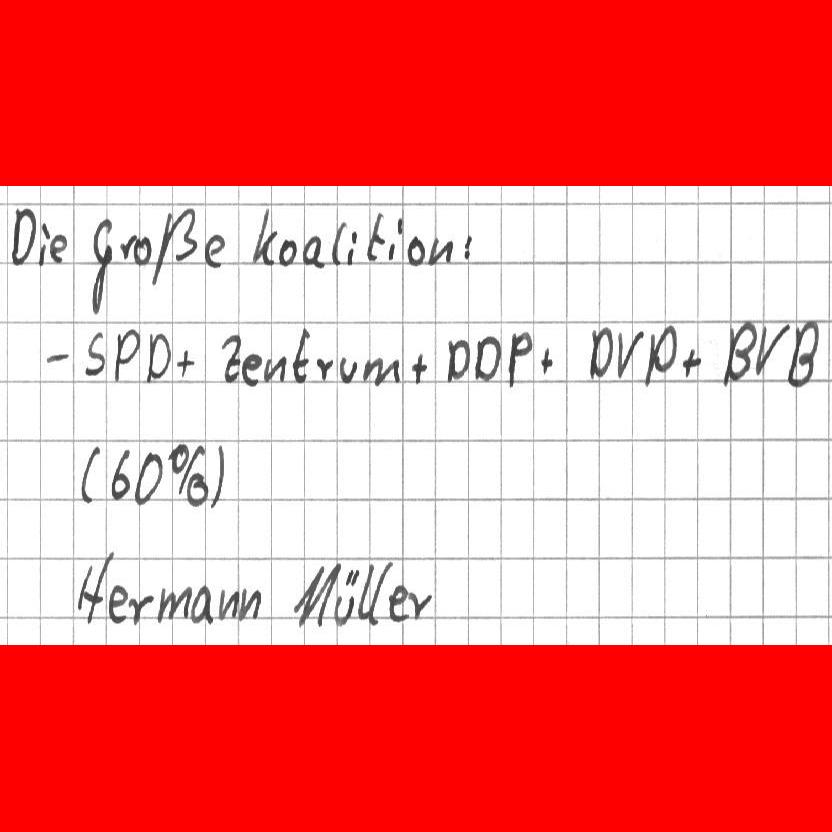Char: (152, 208, 197, 285), (290, 563, 333, 631), (166, 441, 207, 508), (89, 216, 115, 315), (76, 552, 110, 626), (784, 317, 819, 388), (754, 321, 790, 379), (723, 319, 754, 386), (360, 559, 389, 629), (644, 323, 677, 384), (132, 448, 164, 507), (7, 204, 36, 269), (248, 208, 279, 266), (112, 323, 139, 386), (505, 329, 532, 389), (220, 584, 261, 623), (616, 326, 644, 381), (333, 565, 360, 622), (144, 324, 169, 383), (78, 443, 101, 506), (587, 325, 612, 381), (473, 332, 499, 383), (108, 446, 131, 502), (157, 584, 188, 624), (82, 329, 106, 379), (445, 336, 469, 384), (364, 354, 398, 387), (291, 326, 310, 384), (209, 444, 226, 508), (221, 333, 241, 386), (364, 213, 385, 263), (189, 582, 213, 625), (107, 583, 129, 624), (329, 220, 347, 268), (204, 230, 226, 269), (300, 234, 323, 270), (127, 230, 150, 265), (427, 235, 452, 267), (130, 590, 154, 622), (262, 354, 285, 386), (389, 582, 407, 621), (241, 352, 260, 388), (680, 345, 701, 377), (410, 589, 431, 620), (50, 231, 68, 265), (409, 351, 426, 387), (277, 237, 297, 266), (391, 215, 403, 261), (339, 357, 359, 384), (407, 234, 423, 267), (177, 346, 195, 375), (312, 356, 331, 383), (39, 220, 50, 265), (43, 349, 70, 367), (539, 344, 554, 375), (119, 234, 136, 261), (347, 228, 359, 265), (461, 231, 473, 262)
